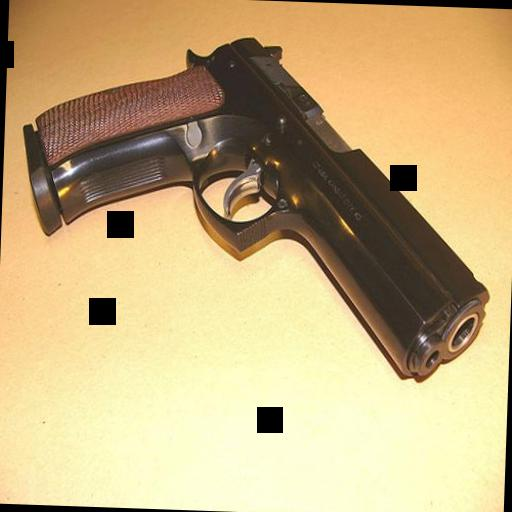Handgun: (11, 12, 496, 386)
